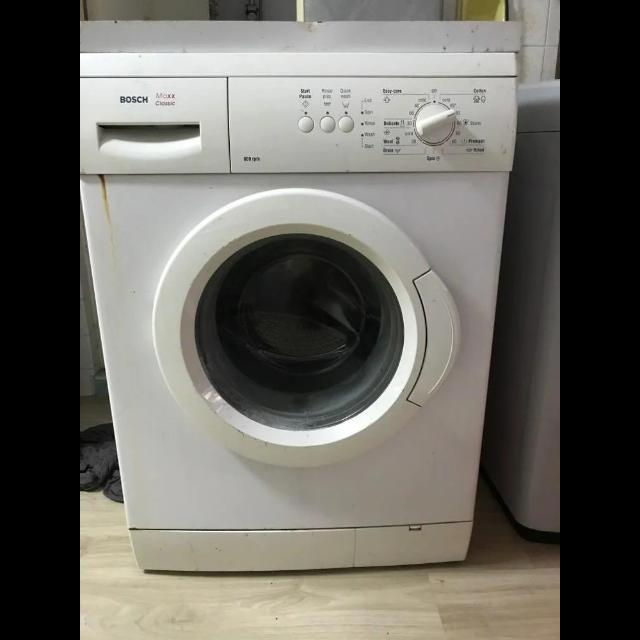Washing-Machine: (82, 51, 514, 567)
